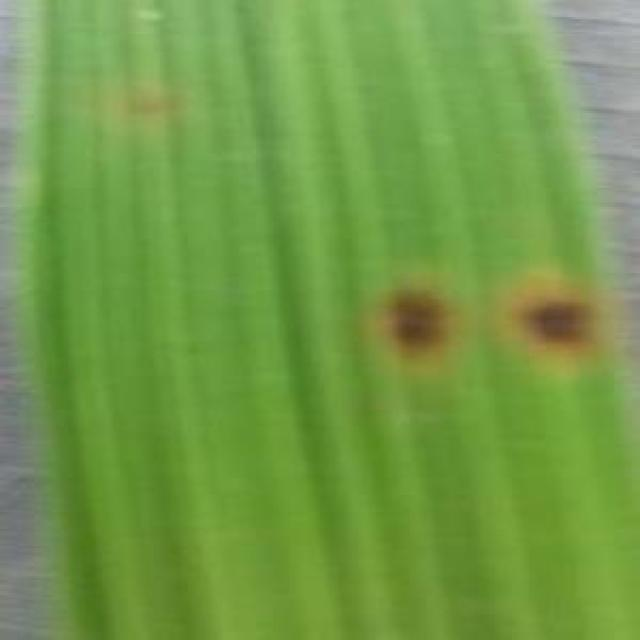Brown_Spot: (499, 269, 616, 379), (370, 279, 465, 368)
